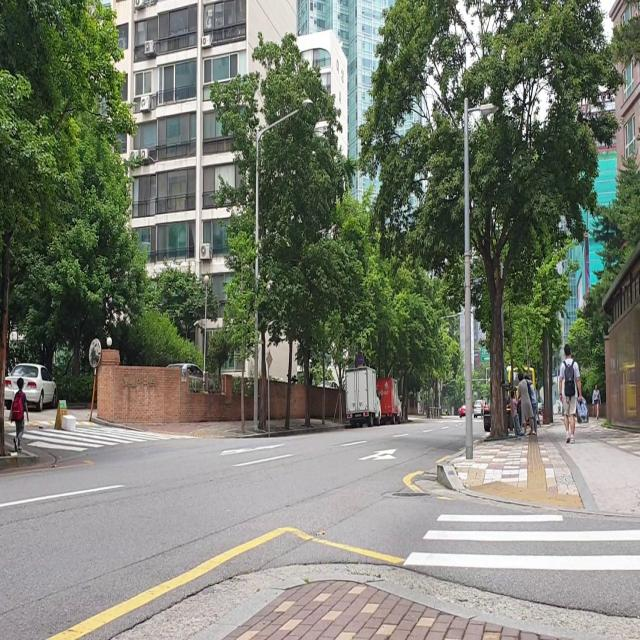횡단보도: (402, 510, 640, 574), (7, 423, 200, 454)
